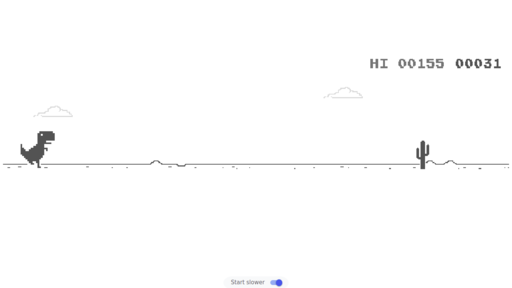dino: (19, 131, 56, 170)
tree: (417, 141, 430, 169)
